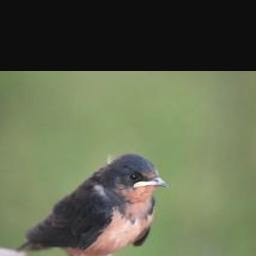Swallow: (17, 151, 169, 256)
